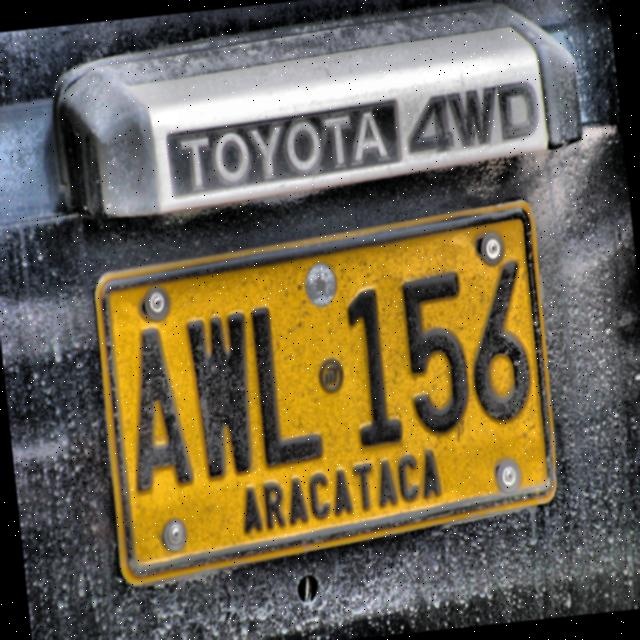1: (338, 278, 409, 454)
5: (391, 264, 478, 441)
6: (459, 257, 538, 434)
A: (118, 318, 202, 502)
L: (246, 296, 328, 472)
W: (180, 309, 262, 484)
